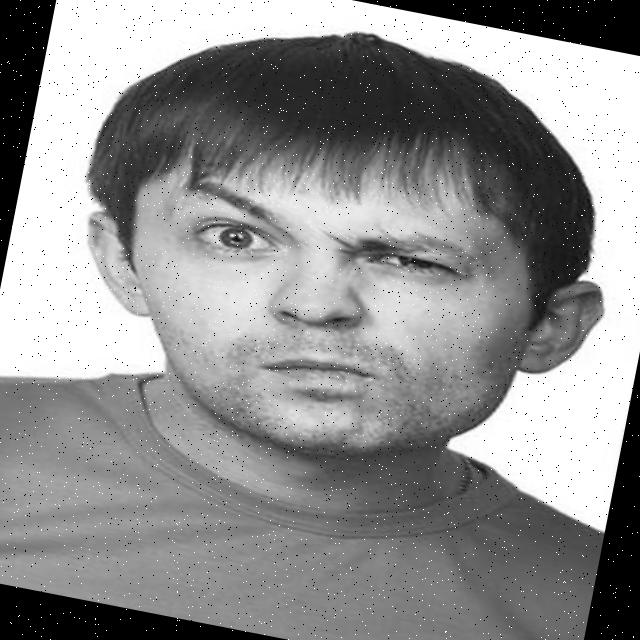Disgust: (91, 96, 568, 493)
